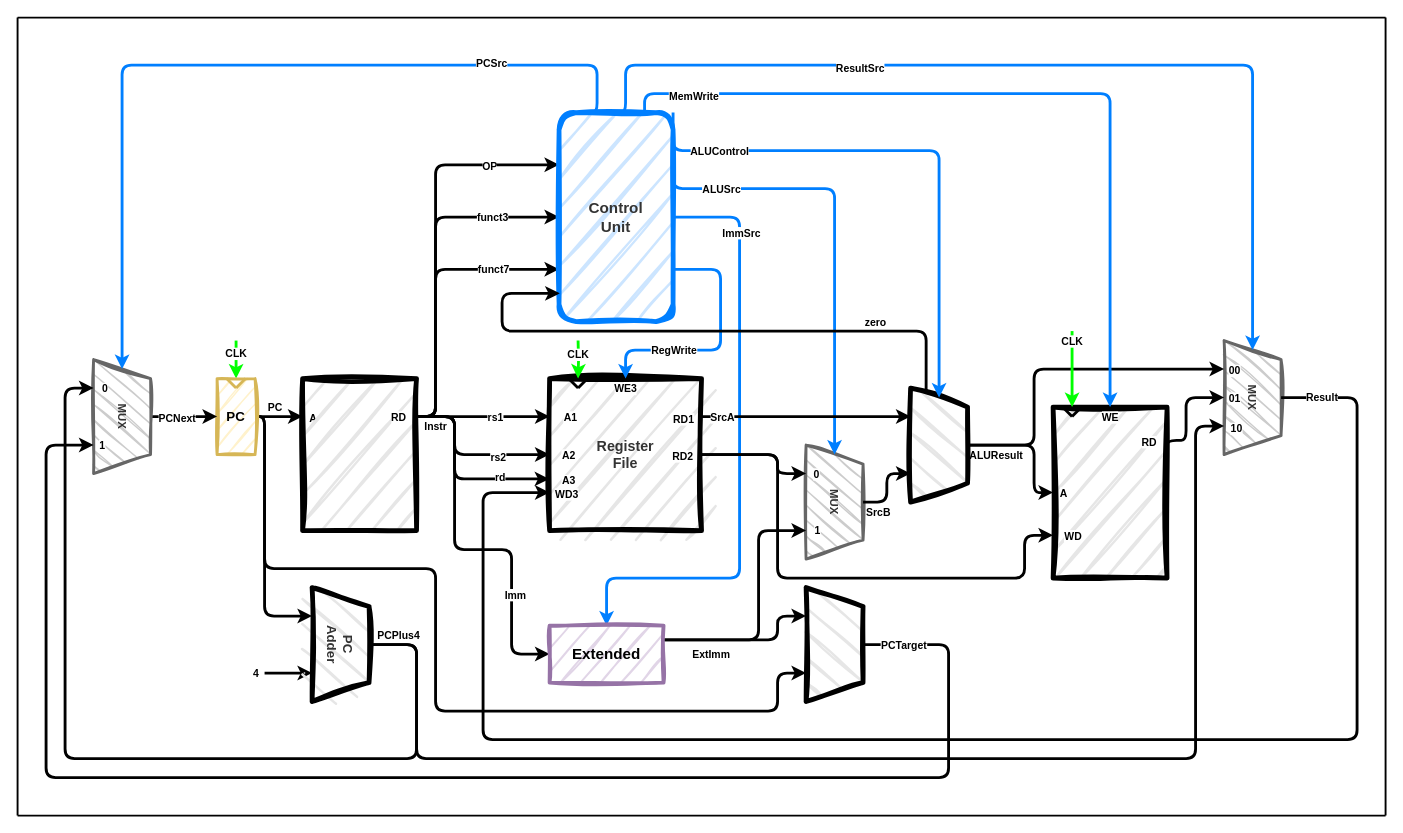
Image size: 1403x833. Some labels were removed from this diagram. The centre of each missing label's shape, as x and y in pixels:
"Adder" belongs at point (834, 644).
"ALU" belongs at point (938, 444).
"Data Memory" belongs at point (1109, 492).
"Instruction Memory" belongs at point (359, 454).
